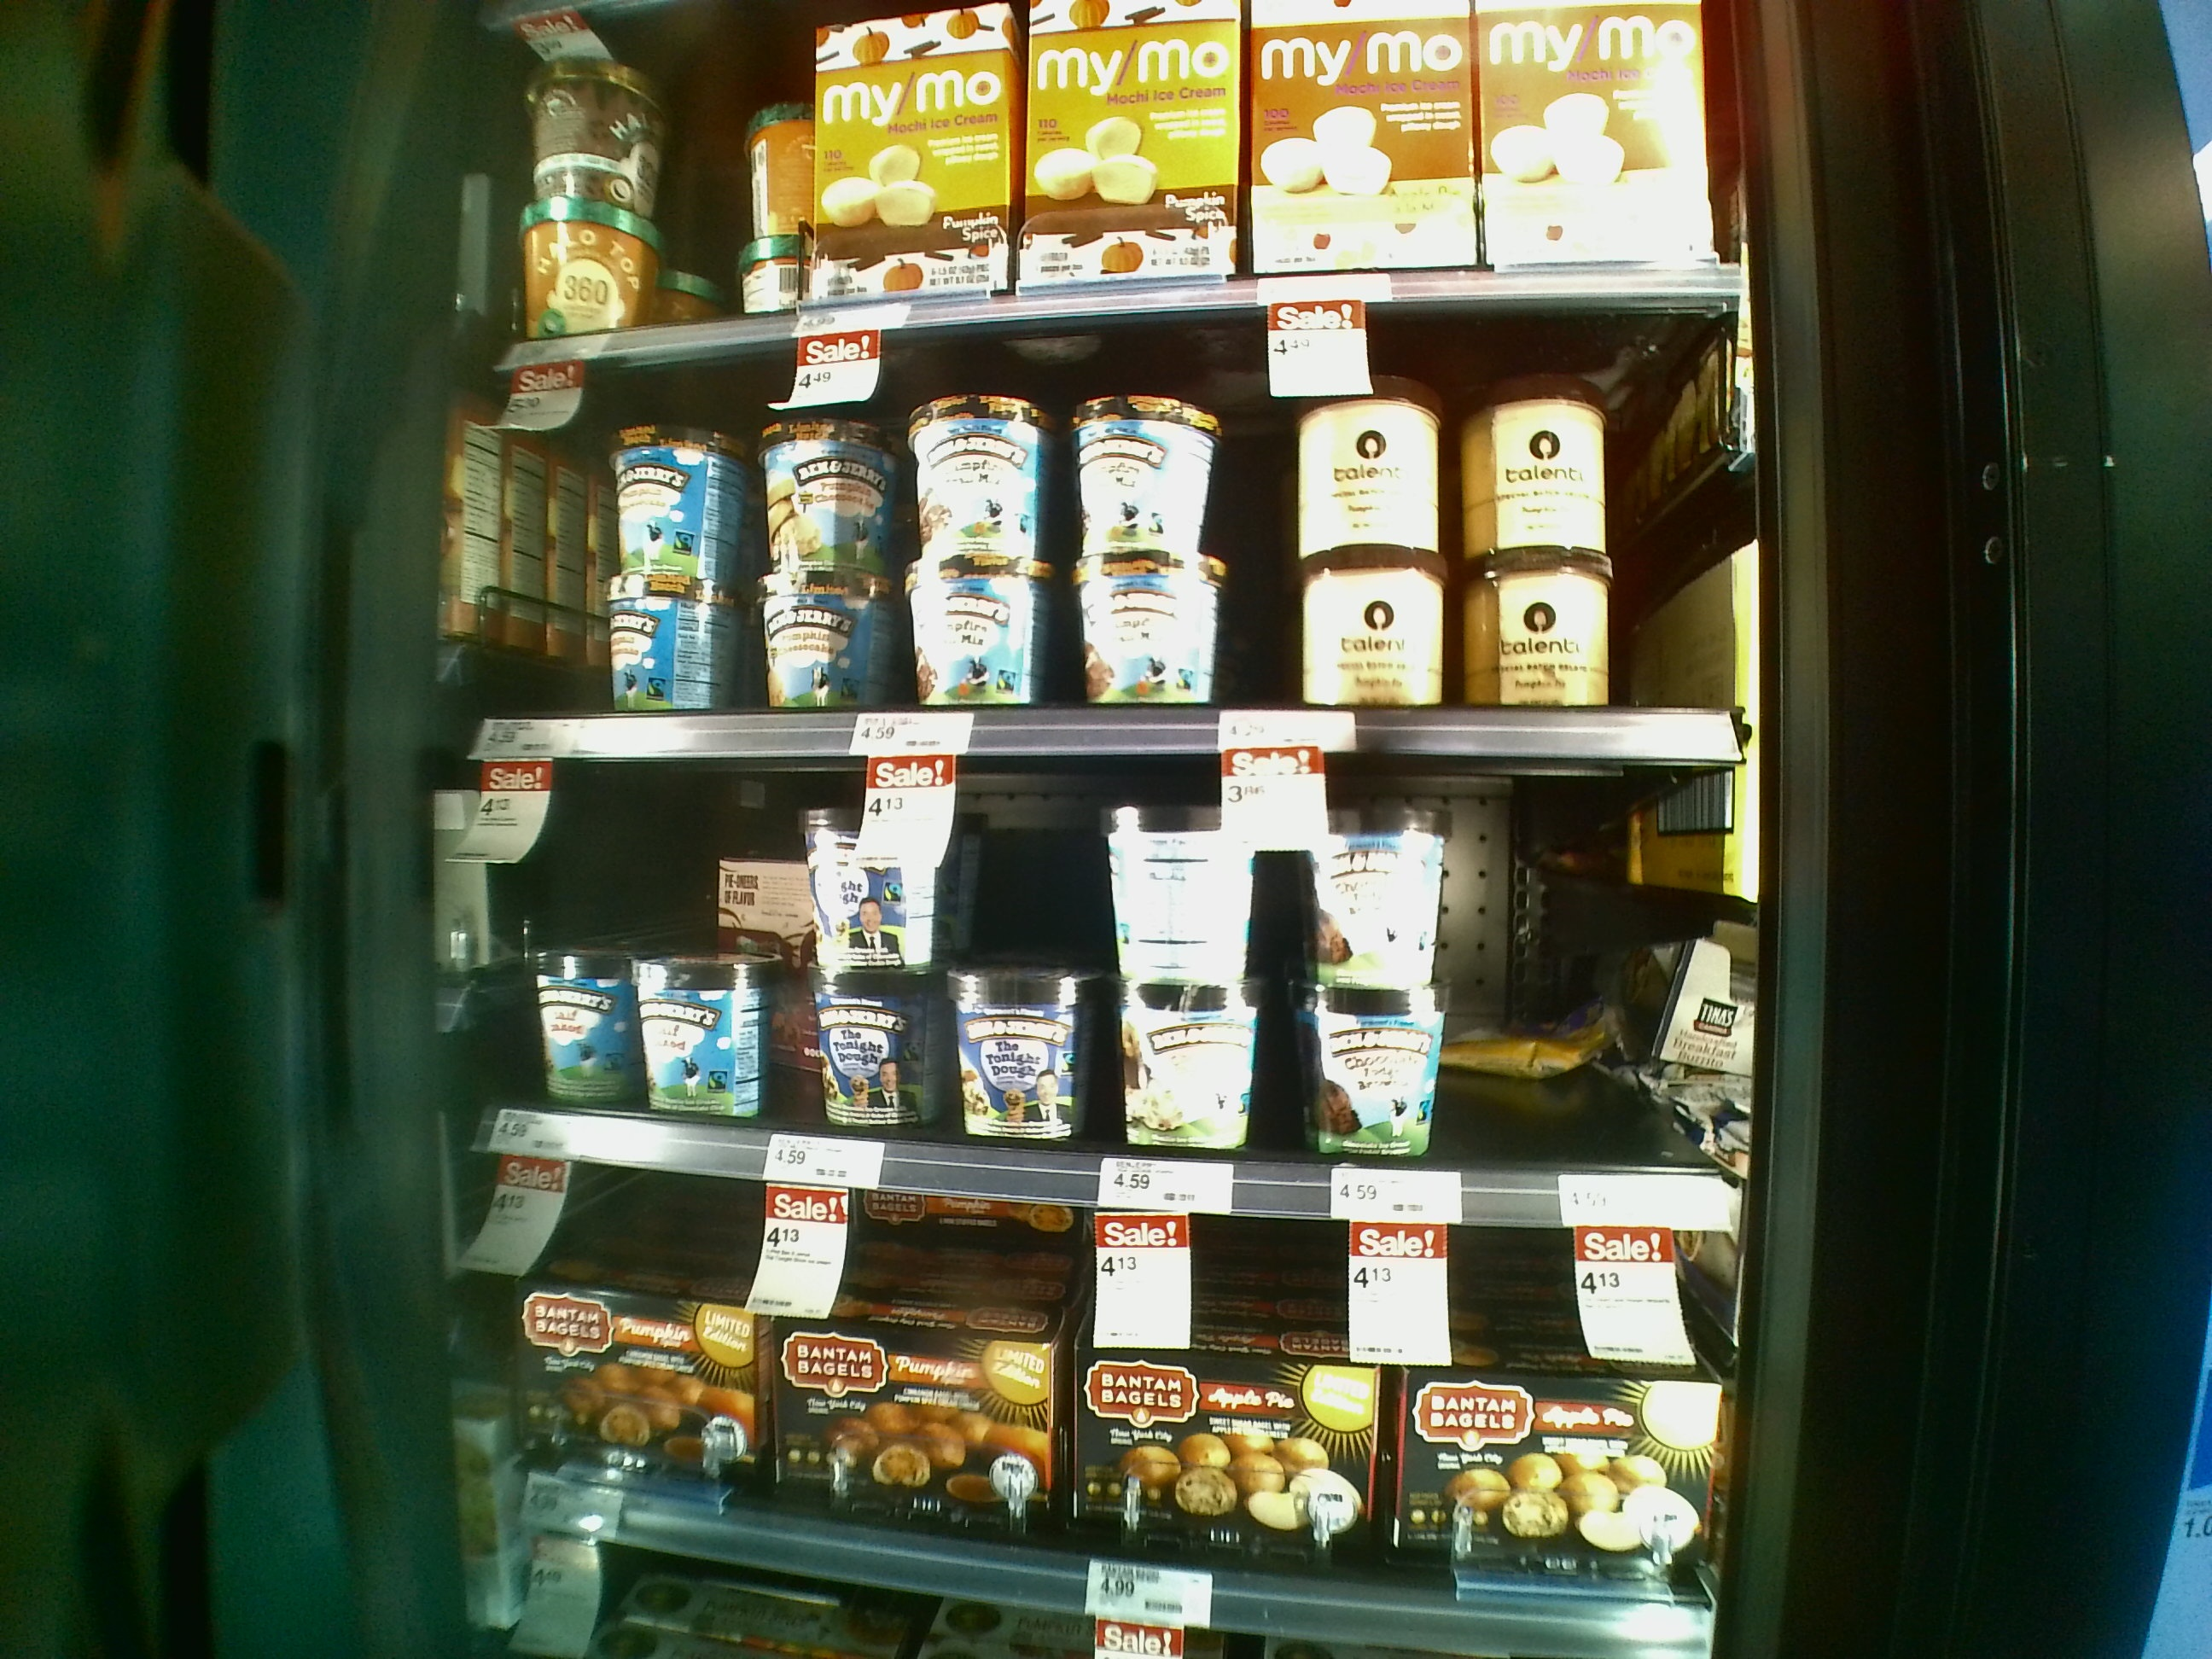shelf: (435, 730, 1754, 1230), (451, 1150, 1721, 1657), (456, 352, 1757, 742)
